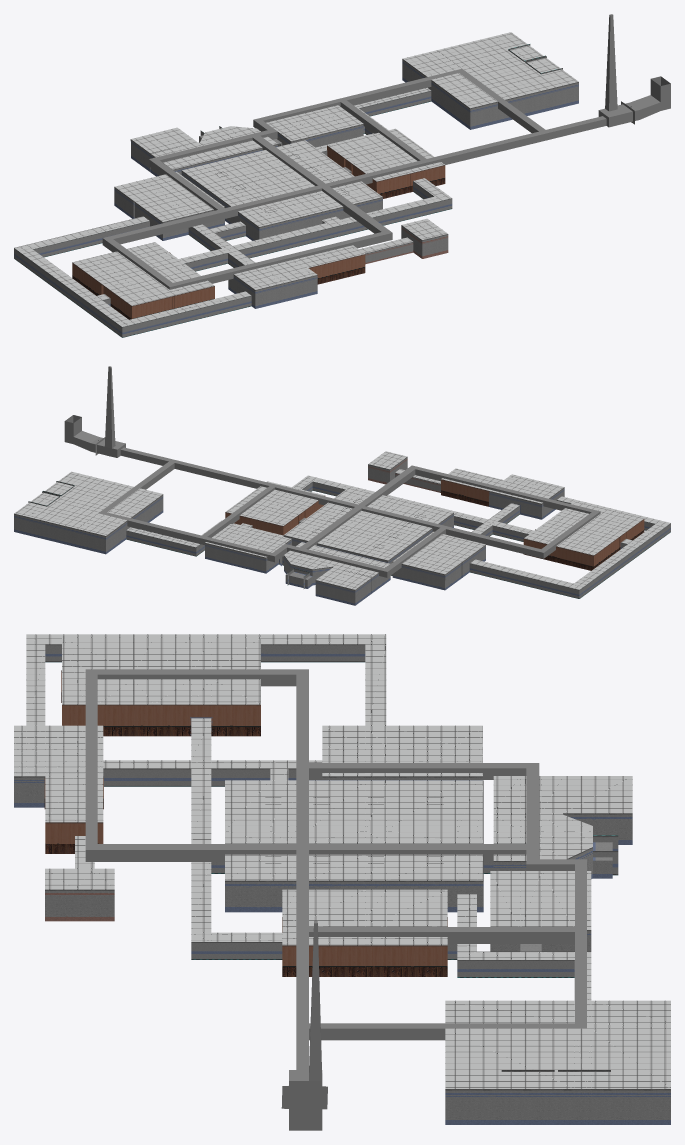
File: lab-2-floor.glb
3 views of the same model, one above another, from view 1: azimuth 30°, elevation 25°; view 2: azimuth 150°, elevation 25°; view 3: azimuth 270°, elevation 25° (orthographic). The views are drawn at different scales.
Parts seen in each view (by area): view 1: walls, ventilation; view 2: walls, ventilation; view 3: walls, ventilation.
Part boxes in pixels (left/top/right/bottom): walls: left=14, top=32, right=578, bottom=337; ventilation: left=102, top=14, right=670, bottom=289; walls: left=14, top=451, right=670, bottom=605; ventilation: left=64, top=366, right=600, bottom=577; walls: left=14, top=634, right=670, bottom=1124; ventilation: left=85, top=669, right=586, bottom=1130.
Bounding box in the file's own units: 121 × 21.96 × 66.07.
9 materials, 7 textured.
